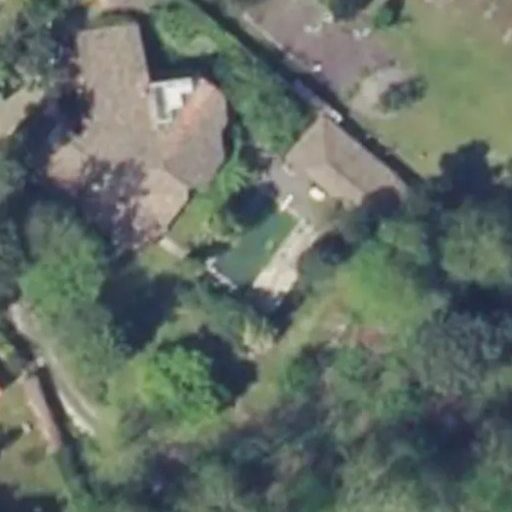pool: (203, 189, 307, 296)
